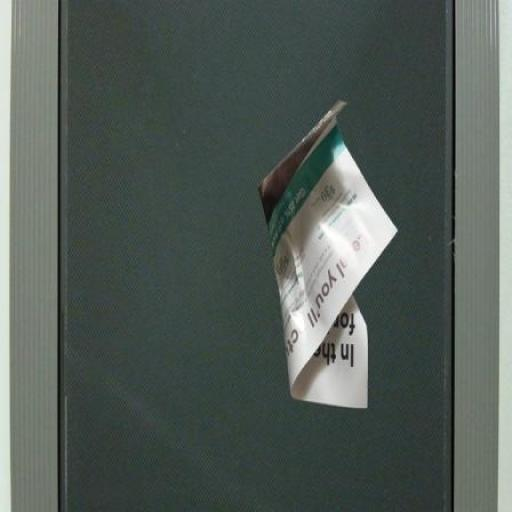paper: (203, 58, 439, 450)
